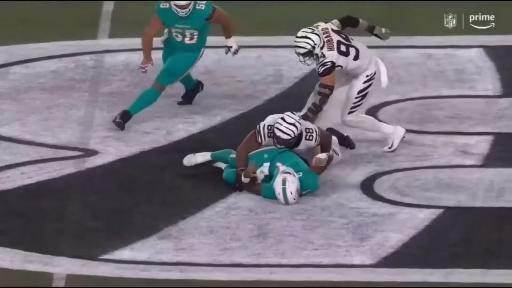Helmet: (295, 27, 323, 65), (273, 112, 301, 147), (274, 168, 300, 205), (171, 2, 193, 16)
Jersey: (249, 147, 319, 199), (315, 23, 376, 77), (156, 2, 214, 51), (290, 120, 320, 150)
Player: (113, 2, 239, 130), (295, 16, 405, 151), (183, 147, 333, 204), (237, 112, 355, 168)
